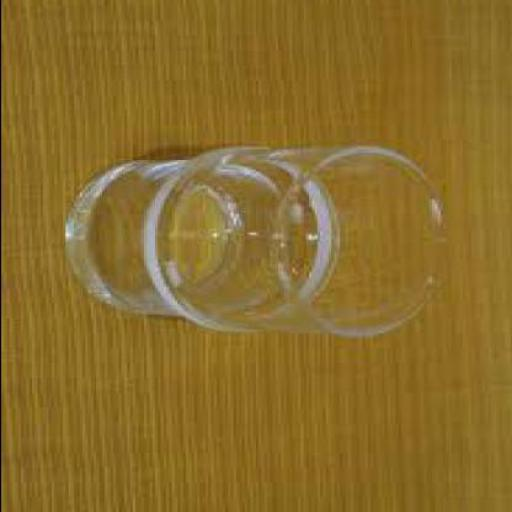glass: (70, 149, 451, 341)
